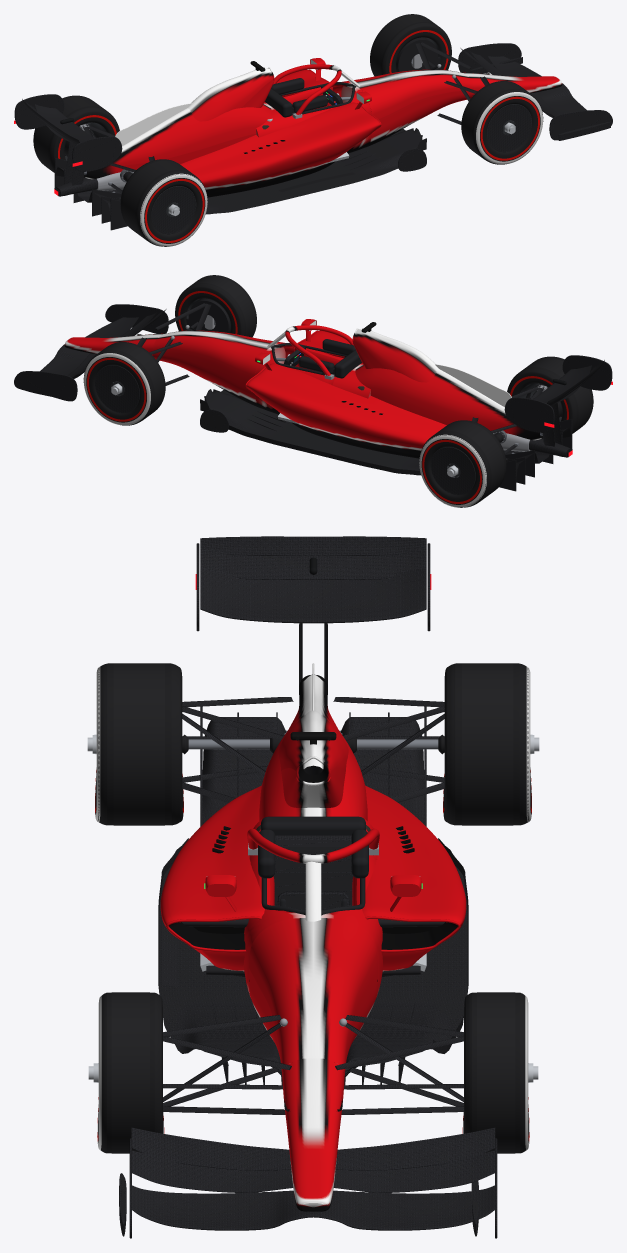
The model's file is nebula-formula.glb.
The picture shows the model from 3 angles, top to bottom: view 1: azimuth 30°, elevation 25°; view 2: azimuth 150°, elevation 25°; view 3: azimuth 270°, elevation 25°; orthographic projection. The views are drawn at different scales.
Visible parts, largest first — view 1: sidepod-L, survival-cell, engine-cover, floor, tyre-RL, front-wing, tyre-FL, rear-wing, tyre-FR, roll-structure, tyre-RR, diffuser (+15 smaller); view 2: sidepod-R, survival-cell, engine-cover, floor, tyre-RR, front-wing, tyre-FR, rear-wing, tyre-FL, roll-structure, tyre-RL, diffuser (+15 smaller); view 3: floor, survival-cell, front-wing-flaps, tyre-RL, tyre-RR, front-wing, sidepod-L, sidepod-R, rear-wing, tyre-FL, tyre-FR, rear-wing-flaps (+14 smaller).
Boxes of the visible parts, box(x1,y1,x2,y2) form: sidepod-L: box(180, 102, 381, 197); survival-cell: box(256, 69, 474, 153); engine-cover: box(84, 103, 271, 179); floor: box(205, 128, 426, 214); tyre-RL: box(120, 159, 207, 246); front-wing: box(458, 43, 612, 140); tyre-FL: box(461, 81, 543, 164); rear-wing: box(14, 94, 122, 171); tyre-FR: box(370, 14, 451, 76); roll-structure: box(188, 67, 274, 121); tyre-RR: box(33, 95, 119, 172); diffuser: box(54, 158, 127, 230); sidepod-R: box(245, 363, 446, 458); survival-cell: box(152, 330, 370, 414); engine-cover: box(355, 364, 542, 440); floor: box(200, 389, 421, 475); tyre-RR: box(419, 420, 506, 507); front-wing: box(14, 304, 168, 401); tyre-FR: box(83, 342, 165, 425); rear-wing: box(504, 355, 612, 432); tyre-FL: box(175, 275, 256, 337); roll-structure: box(352, 328, 438, 382); tyre-RL: box(507, 356, 593, 433); diffuser: box(499, 419, 572, 491); floor: box(158, 838, 468, 1085); survival-cell: box(243, 819, 383, 1079); front-wing-flaps: box(131, 1127, 495, 1192); tyre-RL: box(95, 663, 183, 825); tyre-RR: box(443, 663, 531, 825); front-wing: box(119, 1138, 497, 1238); sidepod-L: box(160, 785, 274, 976); sidepod-R: box(352, 785, 466, 976); rear-wing: box(195, 543, 431, 631); tyre-FL: box(97, 992, 164, 1153); tyre-FR: box(462, 992, 529, 1153); rear-wing-flaps: box(200, 536, 426, 579).
Bounding box in the file's own units: 5.3 × 1.05 × 1.98.
39 materials, 8 textured.
